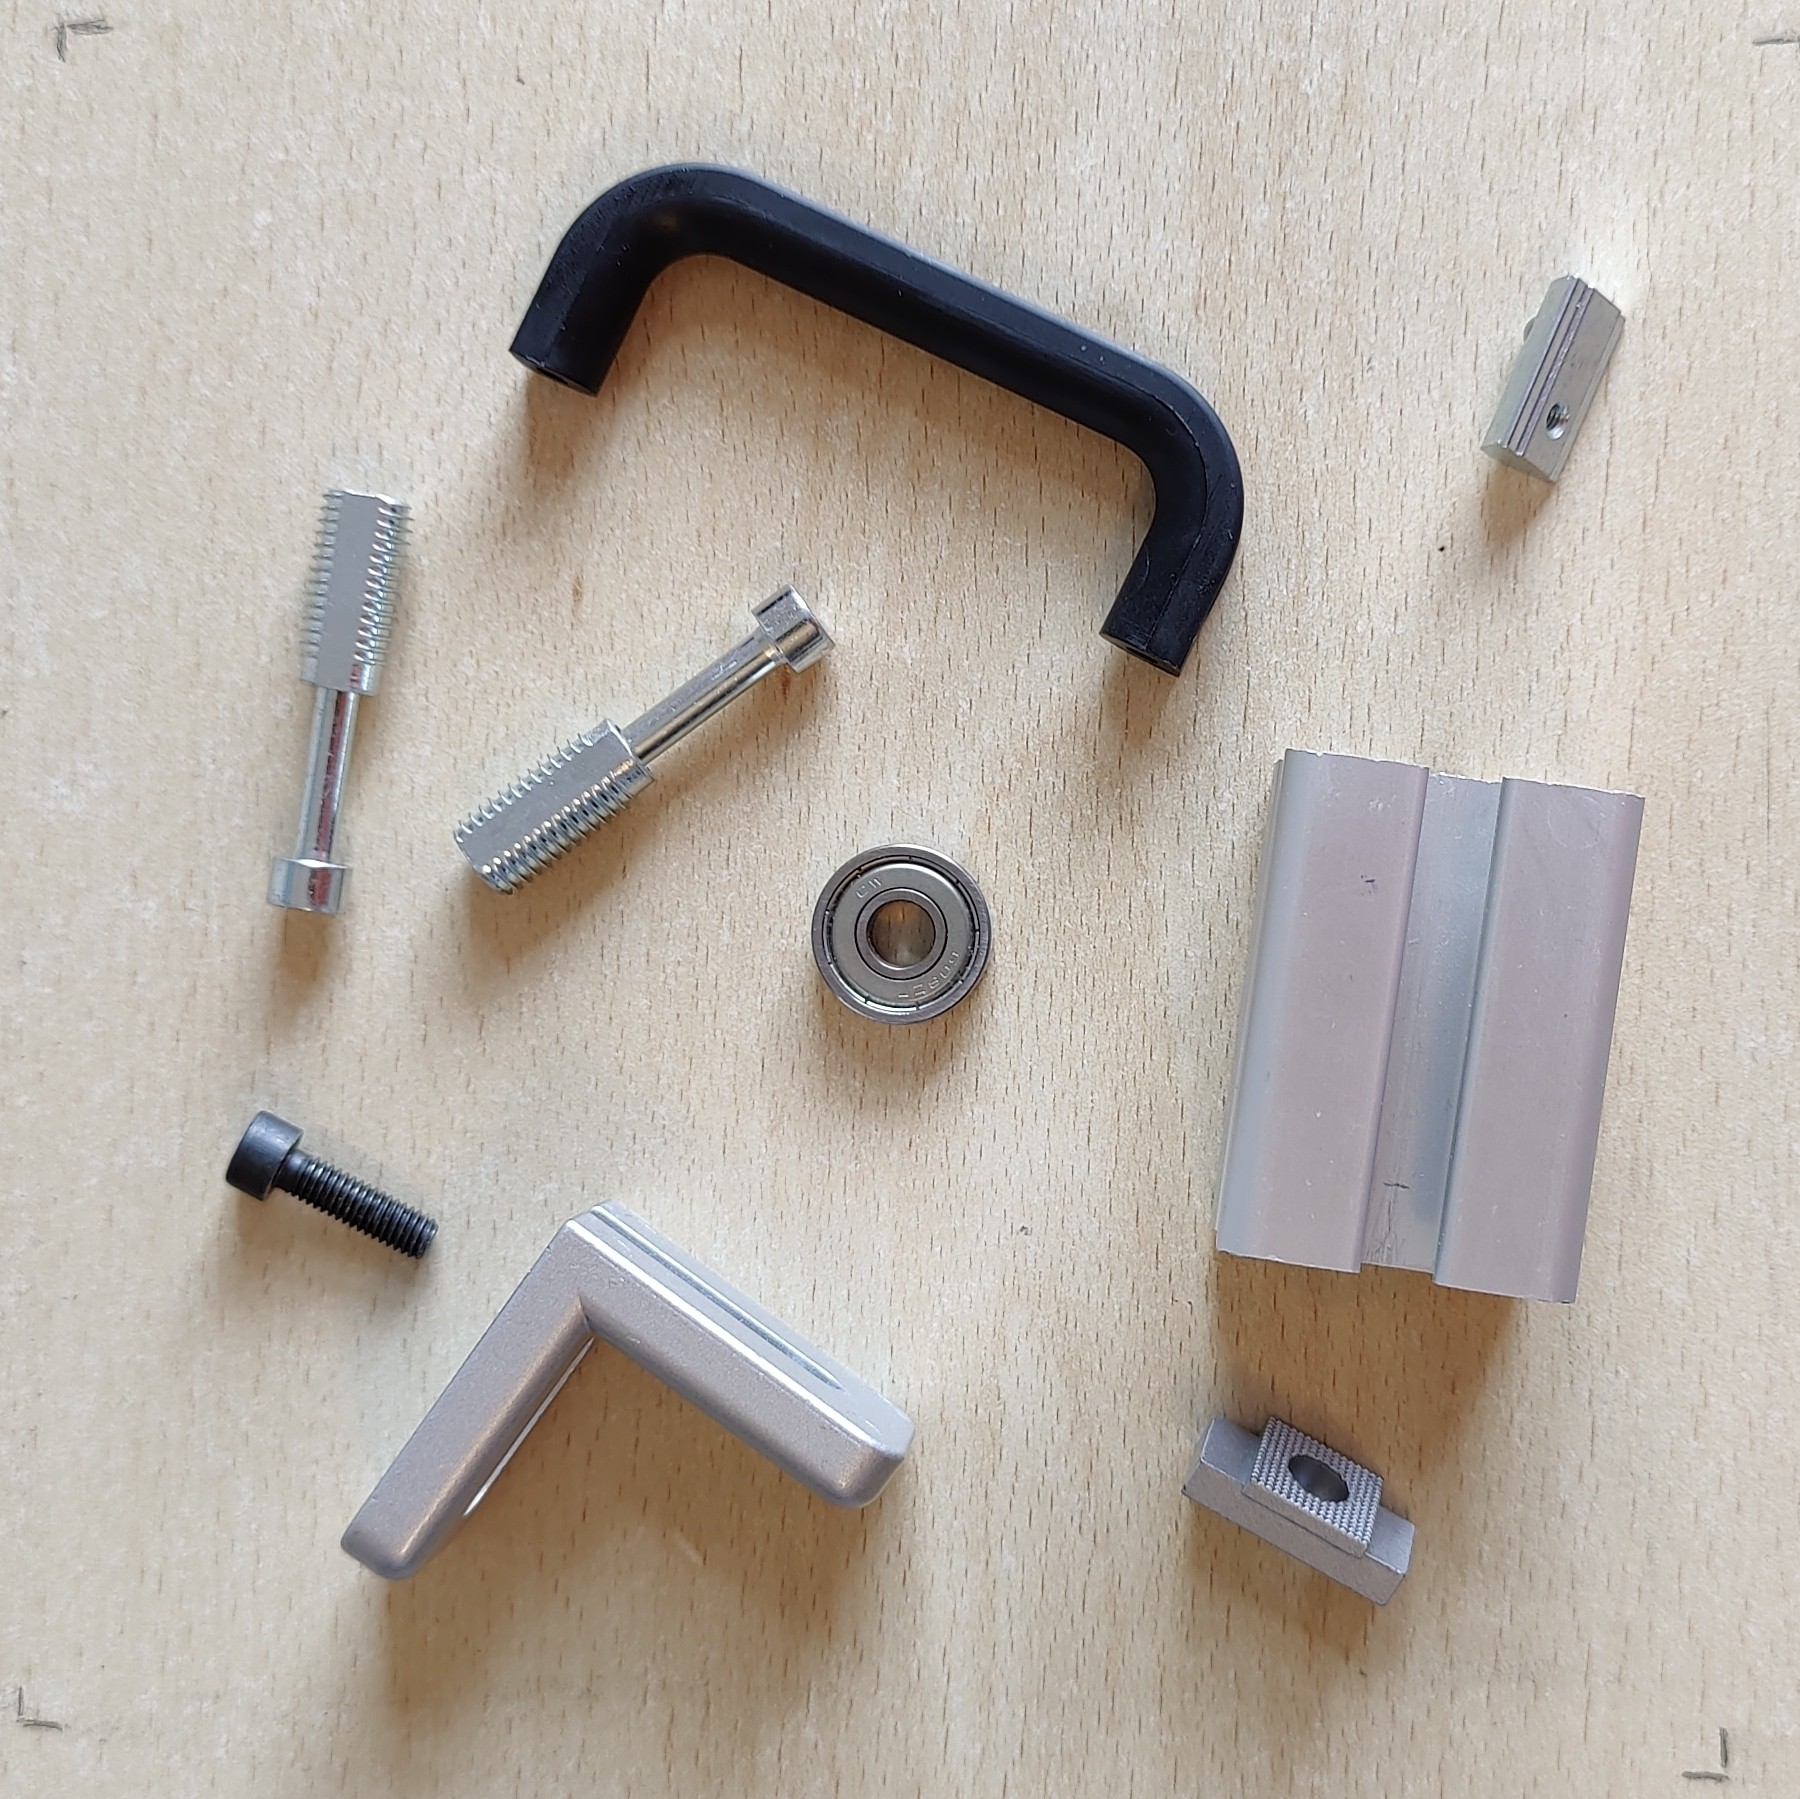Aluminium Extension: (1209, 746, 1648, 1308)
Ball Bearing: (810, 842, 993, 1026)
Multiwinkel: (334, 1199, 917, 1583)
Pull Handle: (506, 161, 1247, 680)
Shoulder Socket Head Cap Screw: (448, 578, 842, 899), (265, 488, 417, 918)
Socket Head Cap Screw: (221, 1110, 440, 1264)
T Nut Square: (1174, 1405, 1421, 1610)
T Spring Nut: (1479, 272, 1629, 488)
